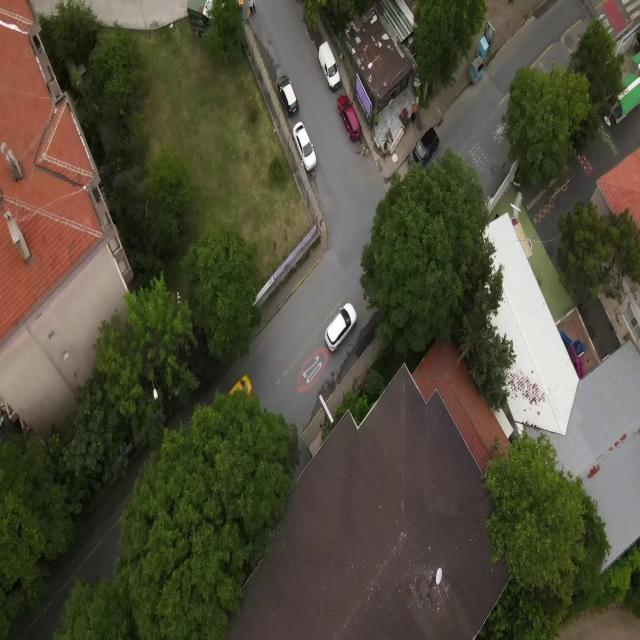p3rson: (248, 0, 254, 17), (252, 0, 257, 14)
